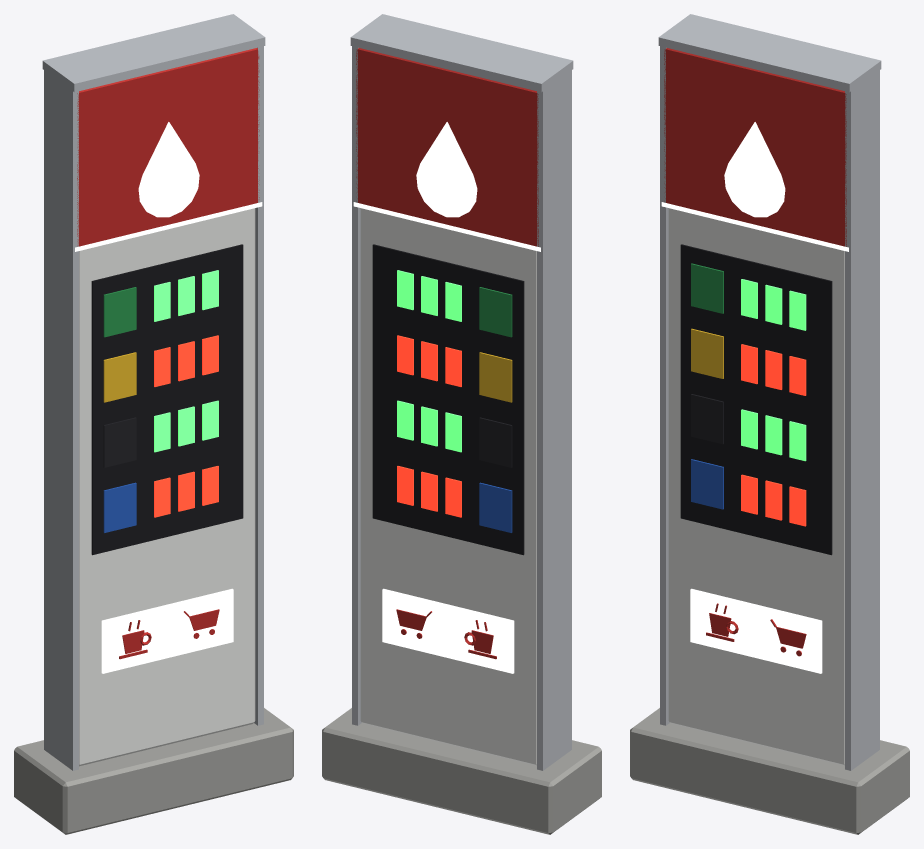
The model's file is Pylon_Tall_Modern.glb.
3 renders of one model, left to right at view 1: azimuth 30°, elevation 25°; view 2: azimuth 150°, elevation 25°; view 3: azimuth 330°, elevation 25°, orthographic.
Parts seen in each view (by area): view 1: Pylon_Tall_Modern; view 2: Pylon_Tall_Modern; view 3: Pylon_Tall_Modern.
Part boxes in pixels (x1,y1,x2,y2): Pylon_Tall_Modern: [14, 14, 293, 834]; Pylon_Tall_Modern: [322, 14, 601, 834]; Pylon_Tall_Modern: [630, 14, 909, 834].
Size of the model in its own units: 2.3 by 7.04 by 0.9.
Materials: 1 (1 with a texture image).
